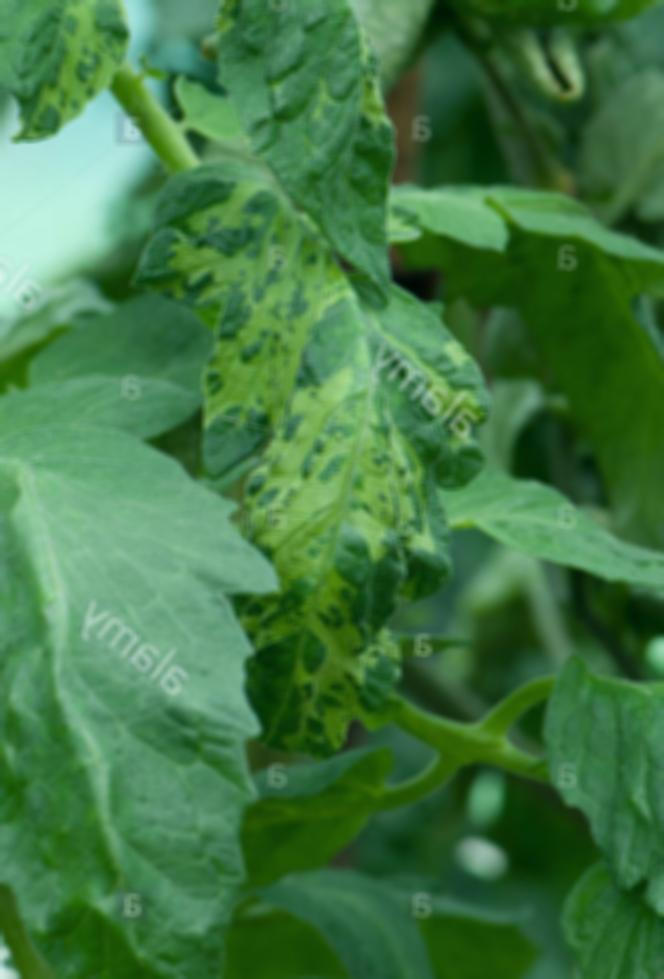Tomato leaf mosaic virus: (167, 109, 486, 765), (0, 397, 283, 979), (81, 0, 432, 281), (0, 0, 162, 160)
